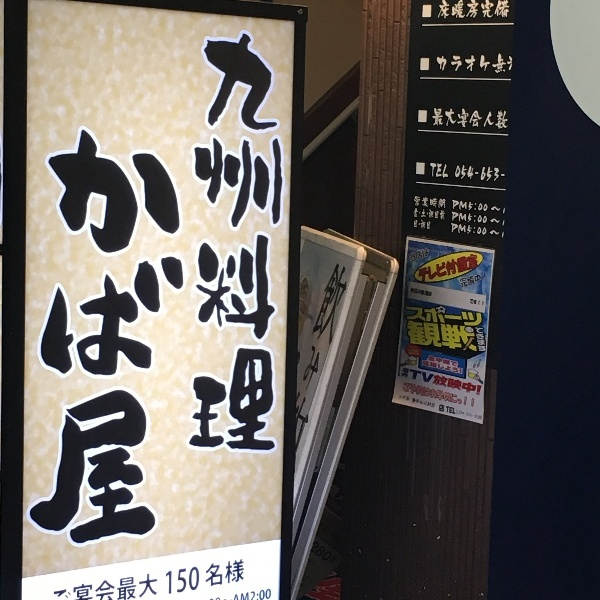text: (49, 124, 64, 555), (65, 124, 80, 555), (81, 124, 96, 555), (97, 124, 112, 555), (113, 124, 128, 555), (129, 124, 144, 555), (145, 124, 160, 555), (161, 124, 176, 555), (209, 30, 224, 457), (225, 30, 240, 457), (241, 30, 256, 457), (257, 30, 272, 457), (273, 30, 286, 457), (177, 124, 189, 555), (196, 30, 208, 457), (305, 259, 320, 400), (321, 259, 336, 400), (337, 259, 352, 400), (297, 259, 304, 400), (46, 124, 48, 555), (81, 557, 96, 600), (97, 557, 112, 600), (113, 557, 128, 600), (129, 557, 144, 600), (145, 557, 160, 600), (161, 557, 176, 600), (177, 557, 192, 600), (193, 557, 208, 600), (209, 557, 224, 600), (225, 557, 240, 600), (417, 319, 432, 353), (433, 319, 448, 353), (449, 319, 464, 353), (433, 252, 448, 285), (449, 252, 464, 285), (465, 252, 479, 285), (417, 380, 432, 410), (433, 380, 448, 410), (449, 380, 464, 410), (419, 252, 432, 285), (465, 319, 477, 353), (321, 540, 336, 567), (433, 107, 448, 132), (449, 107, 464, 132), (465, 107, 480, 132), (481, 107, 496, 132), (417, 302, 432, 327), (433, 302, 448, 327), (449, 302, 464, 327), (465, 302, 480, 327), (404, 380, 416, 410), (449, 374, 464, 397), (465, 374, 480, 397), (406, 319, 416, 353), (449, 53, 464, 75), (465, 53, 480, 75), (481, 53, 496, 75), (465, 380, 476, 410), (434, 374, 448, 397), (465, 164, 480, 185), (481, 164, 496, 185), (73, 557, 80, 600), (449, 1, 464, 21), (465, 1, 480, 21), (481, 1, 496, 21), (497, 107, 509, 132), (353, 259, 355, 400), (433, 162, 448, 180), (436, 53, 448, 75), (497, 1, 510, 21), (465, 272, 480, 289), (406, 302, 416, 327), (465, 223, 480, 239), (481, 223, 496, 239), (417, 368, 432, 384), (401, 394, 416, 410), (417, 394, 432, 410), (465, 199, 480, 214), (481, 199, 496, 214), (465, 211, 480, 226), (481, 211, 496, 226), (433, 359, 448, 374), (497, 53, 507, 75), (417, 247, 429, 265), (497, 164, 507, 185), (417, 195, 432, 209), (451, 223, 464, 239), (451, 199, 464, 214), (417, 208, 432, 221), (451, 211, 464, 226), (433, 355, 448, 368), (449, 359, 462, 374), (433, 195, 446, 209), (439, 1, 448, 21), (417, 219, 432, 231), (257, 588, 272, 600), (241, 557, 245, 600), (456, 164, 464, 185), (417, 287, 432, 298), (465, 410, 480, 421), (433, 208, 445, 221), (403, 367, 416, 379), (423, 359, 432, 374), (475, 326, 480, 352), (481, 326, 486, 352), (449, 355, 459, 368), (409, 247, 416, 265), (409, 368, 416, 384), (316, 540, 320, 567), (470, 298, 480, 307), (449, 406, 458, 416), (481, 272, 486, 289), (497, 199, 502, 214), (439, 404, 448, 412), (250, 588, 256, 600), (460, 272, 464, 289), (497, 211, 501, 226), (411, 287, 416, 298), (459, 410, 464, 421), (428, 355, 432, 368), (497, 223, 500, 239), (433, 394, 436, 410), (413, 208, 416, 221), (430, 162, 432, 180), (481, 298, 485, 307), (433, 368, 435, 384), (414, 195, 416, 209), (337, 540, 338, 567), (481, 302, 482, 327), (414, 219, 416, 231), (481, 374, 482, 397), (446, 406, 448, 416), (449, 162, 450, 180), (481, 410, 482, 421)
